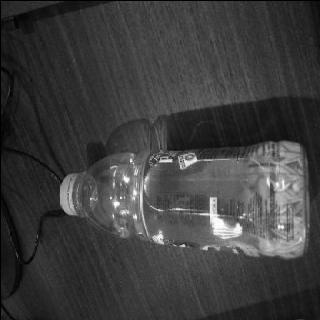plastic_bottles: (48, 134, 312, 262)
